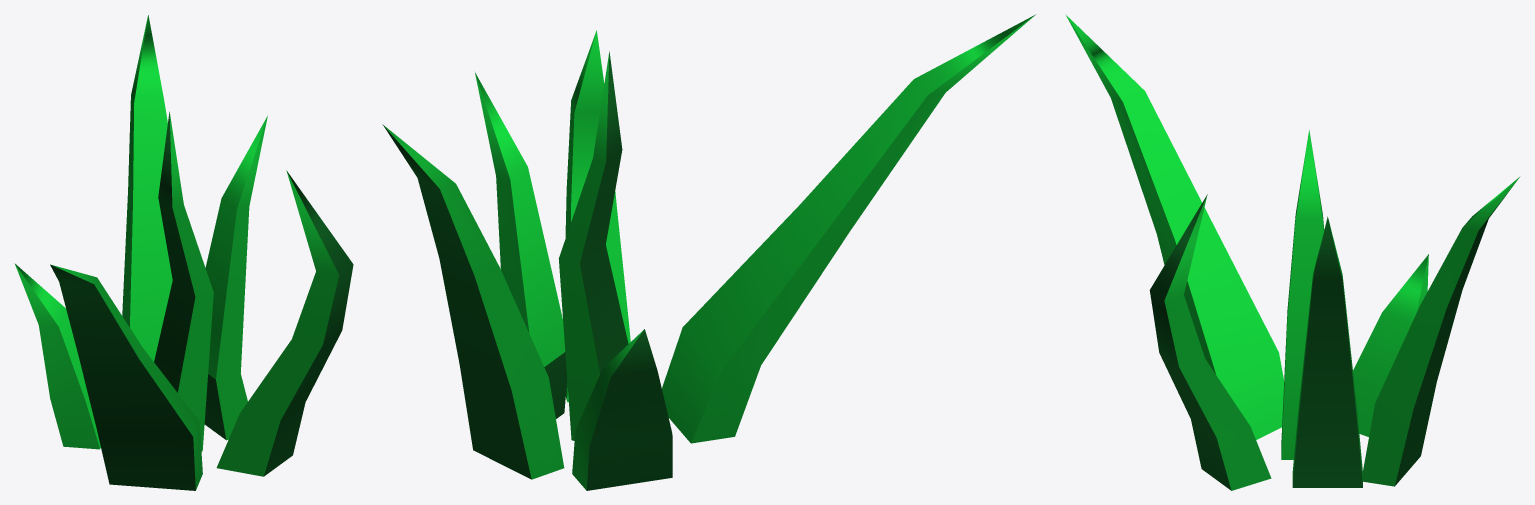
File: grass.fbx
3 views of the same model, side by side, from view 1: azimuth 30°, elevation 25°; view 2: azimuth 150°, elevation 25°; view 3: azimuth 270°, elevation 25° (orthographic). The views are drawn at different scales.
Parts seen in each view (by area): view 1: Pyramid005; view 2: Pyramid005; view 3: Pyramid005.
Boxes of the visible parts, box(x1,y1,x2,y2) form: Pyramid005: box(14, 15, 353, 490); Pyramid005: box(382, 14, 1035, 490); Pyramid005: box(1065, 14, 1520, 490).
Bounding box in the file's own units: 1.13 × 1.02 × 1.31.
